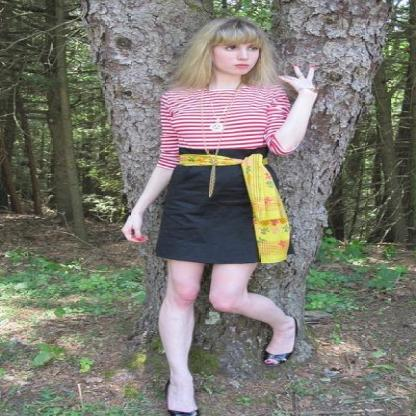shirt: (151, 83, 292, 165)
shoe: (156, 339, 287, 415)
skirt: (153, 145, 268, 270)
